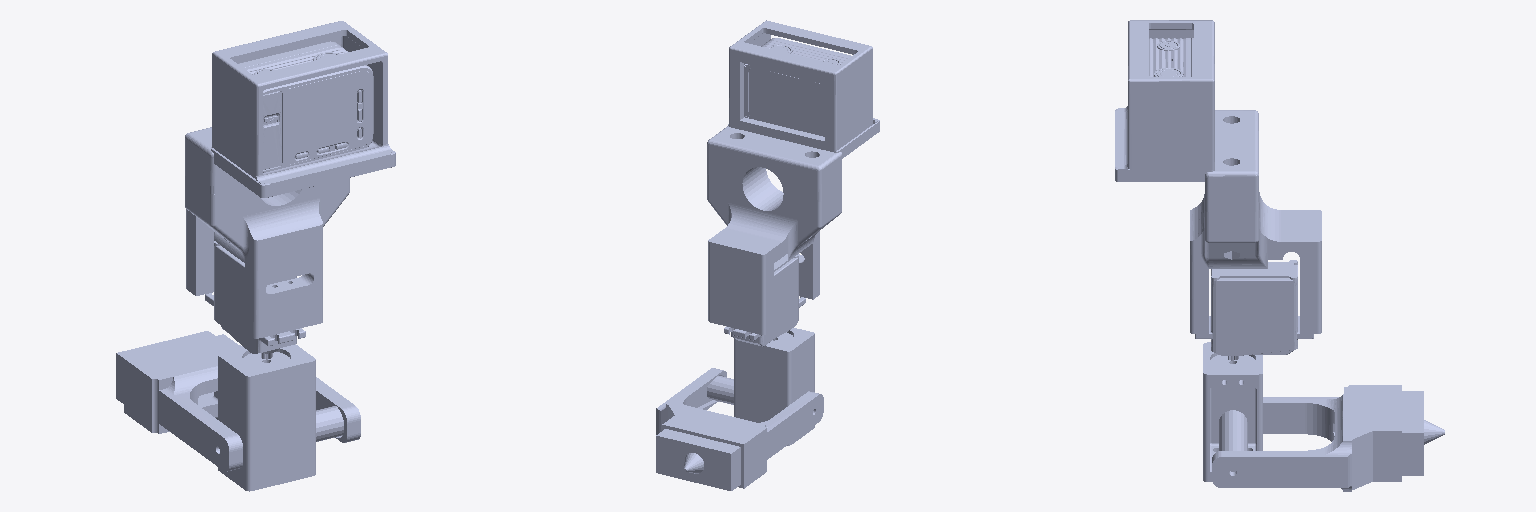
robot.urdf — droneurdf2:
<?xml version="1.0" encoding="utf-8"?>

<robot name="droneurdf2">
<!-- This URDF was automatically created by SolidWorks to URDF Exporter! Originally created by Stephen Brawner (brawner@gmail.com) 
     Commit Version: 1.6.0-4-g7f85cfe  Build Version: 1.6.7995.38578
     For more information, please see http://wiki.ros.org/sw_urdf_exporter -->
  <link name="world"/>
  <joint name="world_joint" type="fixed">
    <parent link="world"/>
    <child link="base_link"/>
    <origin xyz="0 0 0" rpy="0 0 0"/>
  </joint>
  <link
    name="base_link">
    <inertial>
      <origin
        xyz="0.0011293326206765 0.0237572907186765 -0.0285573623278838"
        rpy="0 0 0" />
      <mass
        value="5.86053330036656" />
      <inertia
        ixx="0.095822324169567"
        ixy="-0.000141833714427708"
        ixz="2.19294574317262E-06"
        iyy="0.0942097463698701"
        iyz="-0.00047567279662953"
        izz="0.14804451113235" />
    </inertial>
    <visual>
      <origin
        xyz="0 0 0"
        rpy="0 0 0" />
      <geometry>
        <mesh
          filename="package://droneurdf2/meshes/base_link.STL" />
      </geometry>
      <material
        name="">
        <color
          rgba="0.501960784313725 0.501960784313725 1 1" />
      </material>
    </visual>
    <collision>
      <origin
        xyz="0 0 0"
        rpy="0 0 0" />
      <geometry>
        <mesh
          filename="package://droneurdf2/meshes/base_link.STL" />
      </geometry>
    </collision>
  </link>
  <link
    name="pan_link">
    <inertial>
      <origin
        xyz="-0.00294705755680927 1.63761131322104E-08 -0.026965819182479"
        rpy="0 0 0" />
      <mass
        value="0.0230763731325151" />
      <inertia
        ixx="1.00879617575775E-05"
        ixy="1.37468609227006E-12"
        ixz="-1.42088644525424E-08"
        iyy="1.06678636320409E-05"
        iyz="4.73635680809446E-12"
        izz="5.01259453885722E-06" />
    </inertial>
    <visual>
      <origin
        xyz="0 0 0"
        rpy="0 0 0" />
      <geometry>
        <mesh
          filename="package://droneurdf2/meshes/pan_link.STL" />
      </geometry>
      <material
        name="">
        <color
          rgba="0.792156862745098 0.819607843137255 0.933333333333333 1" />
      </material>
    </visual>
    <collision>
      <origin
        xyz="0 0 0"
        rpy="0 0 0" />
      <geometry>
        <mesh
          filename="package://droneurdf2/meshes/pan_link.STL" />
      </geometry>
    </collision>
  </link>
  <joint
    name="pan_joint"
    type="revolute">
    <origin
      xyz="0 0.688053811513313 -0.106439267033973"
      rpy="0 0 0" />
    <parent
      link="base_link" />
    <child
      link="pan_link" />
    <axis
      xyz="0 0 1" />
    <limit
      lower="-1.57"
      upper="1.57"
      effort="10"
      velocity="1" />
  </joint>
  <link
    name="tilt_link">
    <inertial>
      <origin
        xyz="0.00466100399165346 0.044208615968702 -2.14532923137611E-05"
        rpy="0 0 0" />
      <mass
        value="0.0496657978600844" />
      <inertia
        ixx="1.61417578186636E-05"
        ixy="2.79060047311562E-08"
        ixz="-3.89021960587608E-09"
        iyy="2.38149653435665E-05"
        iyz="2.44716834778596E-08"
        izz="3.5760030966859E-05" />
    </inertial>
    <visual>
      <origin
        xyz="0 0 0"
        rpy="0 0 0" />
      <geometry>
        <mesh
          filename="package://droneurdf2/meshes/tilt_link.STL" />
      </geometry>
      <material
        name="">
        <color
          rgba="0.792156862745098 0.819607843137255 0.933333333333333 1" />
      </material>
    </visual>
    <collision>
      <origin
        xyz="0 0 0"
        rpy="0 0 0" />
      <geometry>
        <mesh
          filename="package://droneurdf2/meshes/tilt_link.STL" />
      </geometry>
    </collision>
  </link>
  <joint
    name="tilt_joint"
    type="revolute">
    <origin
      xyz="0 0 -0.0388398108012811"
      rpy="0 0 0" />
    <parent
      link="pan_link" />
    <child
      link="tilt_link" />
    <axis
      xyz="-1 0 0" />
    <limit
      lower="-1.57"
      upper="1.57"
      effort="10"
      velocity="1" />
  </joint>
 
  <link
    name="camera_link">
    <inertial>
      <origin
        xyz="-9.45196864550917E-05 0.0101274759764476 -0.055111598086541"
        rpy="0 0 0" />
      <mass
        value="0.175587717265154" />
      <inertia
        ixx="0.000101692885115253"
        ixy="3.99686622361317E-08"
        ixz="-1.04941052197079E-07"
        iyy="0.000104799367062802"
        iyz="1.4482101836322E-05"
        izz="0.000106221244379781" />
    </inertial>
    <visual>
      <origin
        xyz="0 0 0"
        rpy="0 0 0" />
      <geometry>
        <mesh
          filename="package://droneurdf2/meshes/camera_link.STL" />
      </geometry>
      <material
        name="">
        <color
          rgba="0.792156862745098 0.819607843137255 0.933333333333333 1" />
      </material>
    </visual>
    <collision>
      <origin
        xyz="0 0 0"
        rpy="0 0 0" />
      <geometry>
        <mesh
          filename="package://droneurdf2/meshes/camera_link.STL" />
      </geometry>
    </collision>
  </link>
  <joint
    name="camera_joint"
    type="fixed">
    <origin
      xyz="0 0.675 0.026"
      rpy="0 0 0" />
    <parent
      link="base_link" />
    <child
      link="camera_link" />
  </joint>
  <link name="camera_optical_frame"/>

<joint name="camera_optical_joint" type="fixed">
  <parent link="camera_link"/>
  <child link="camera_optical_frame"/>
  <origin xyz="0 0 0" rpy="-1.5708 0 -1.5708"/>
</joint>

</robot>

--- Facts derived from the render (not from the file) ---
3 views of the same robot in one strip: view 1: azimuth 30°, elevation 25°; view 2: azimuth 150°, elevation 25°; view 3: azimuth 270°, elevation 25° (orthographic).
Robot: droneurdf2 — 6 links, 5 joints (2 revolute, 3 fixed); root link world; default pose: all joints at 0.
Links seen in each view (by area): view 1: camera_link, tilt_link, pan_link; view 2: camera_link, tilt_link, pan_link; view 3: camera_link, tilt_link, pan_link.
Boxes of the visible links, <box> form: camera_link: <box>185,21,395,359</box>; tilt_link: <box>116,331,360,471</box>; pan_link: <box>218,344,315,491</box>; camera_link: <box>707,20,879,346</box>; tilt_link: <box>656,368,823,490</box>; pan_link: <box>734,328,814,445</box>; camera_link: <box>1115,20,1321,360</box>; tilt_link: <box>1212,385,1444,491</box>; pan_link: <box>1203,342,1262,481</box>.
Bounding box of the posed robot: 0.0765 × 0.1527 × 0.2124 m (x, y, z).
Meshes: 4 distinct files referenced, 3 mesh visuals loaded (3 binary STL); not drawn: 1 (reference not matched to a file when rendering).
